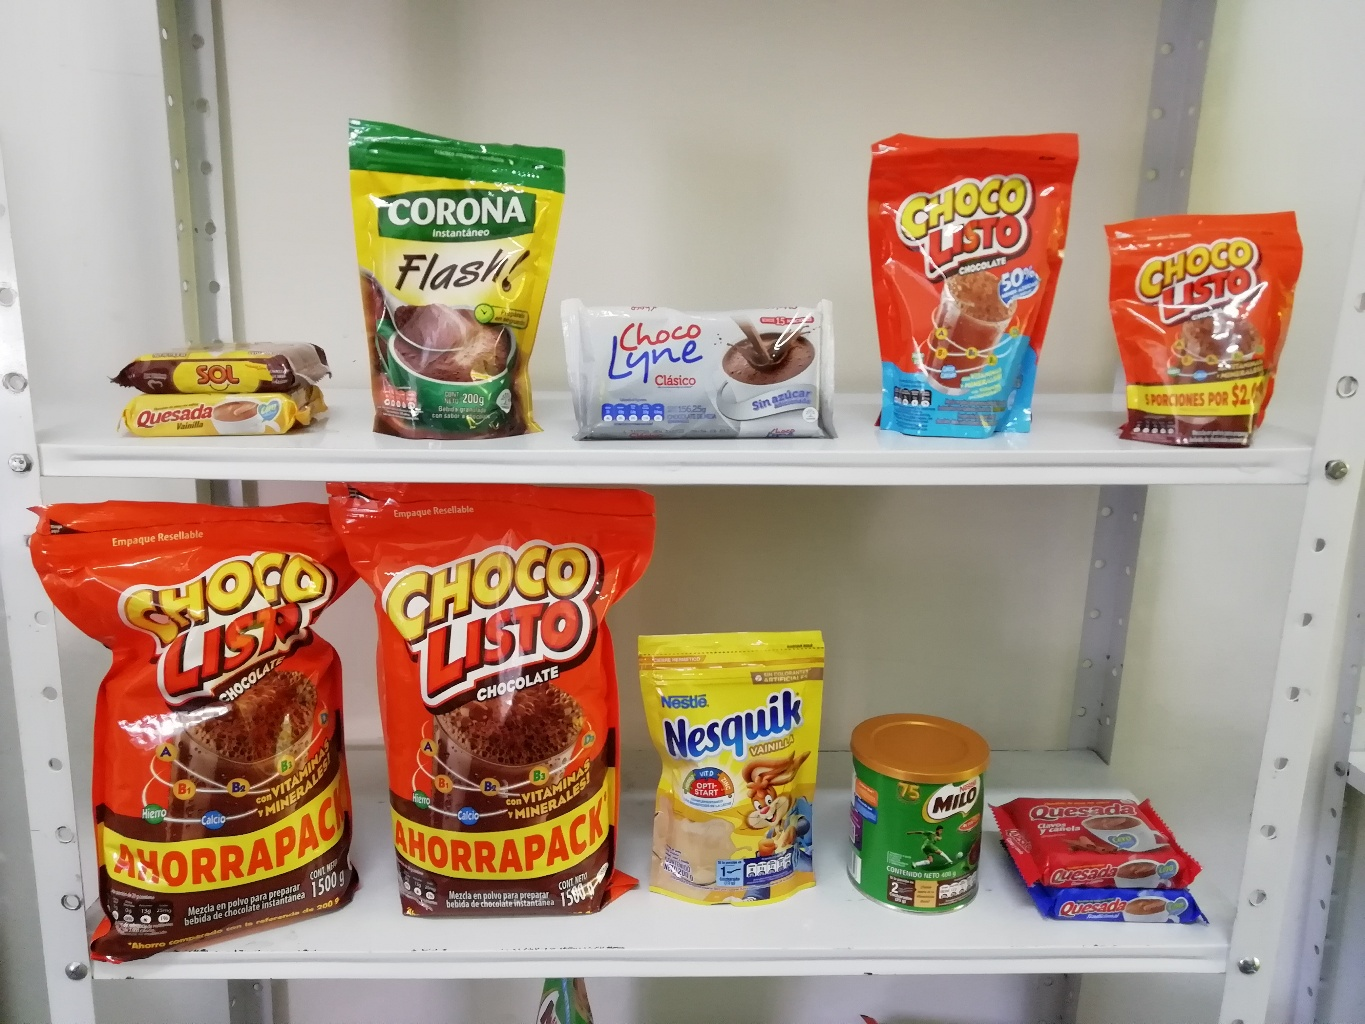COL0170104DYP20000: (873, 125, 1092, 430)
COL0170203LAT40000: (845, 697, 993, 927)
COL0170306DYP20000: (630, 624, 841, 908)
